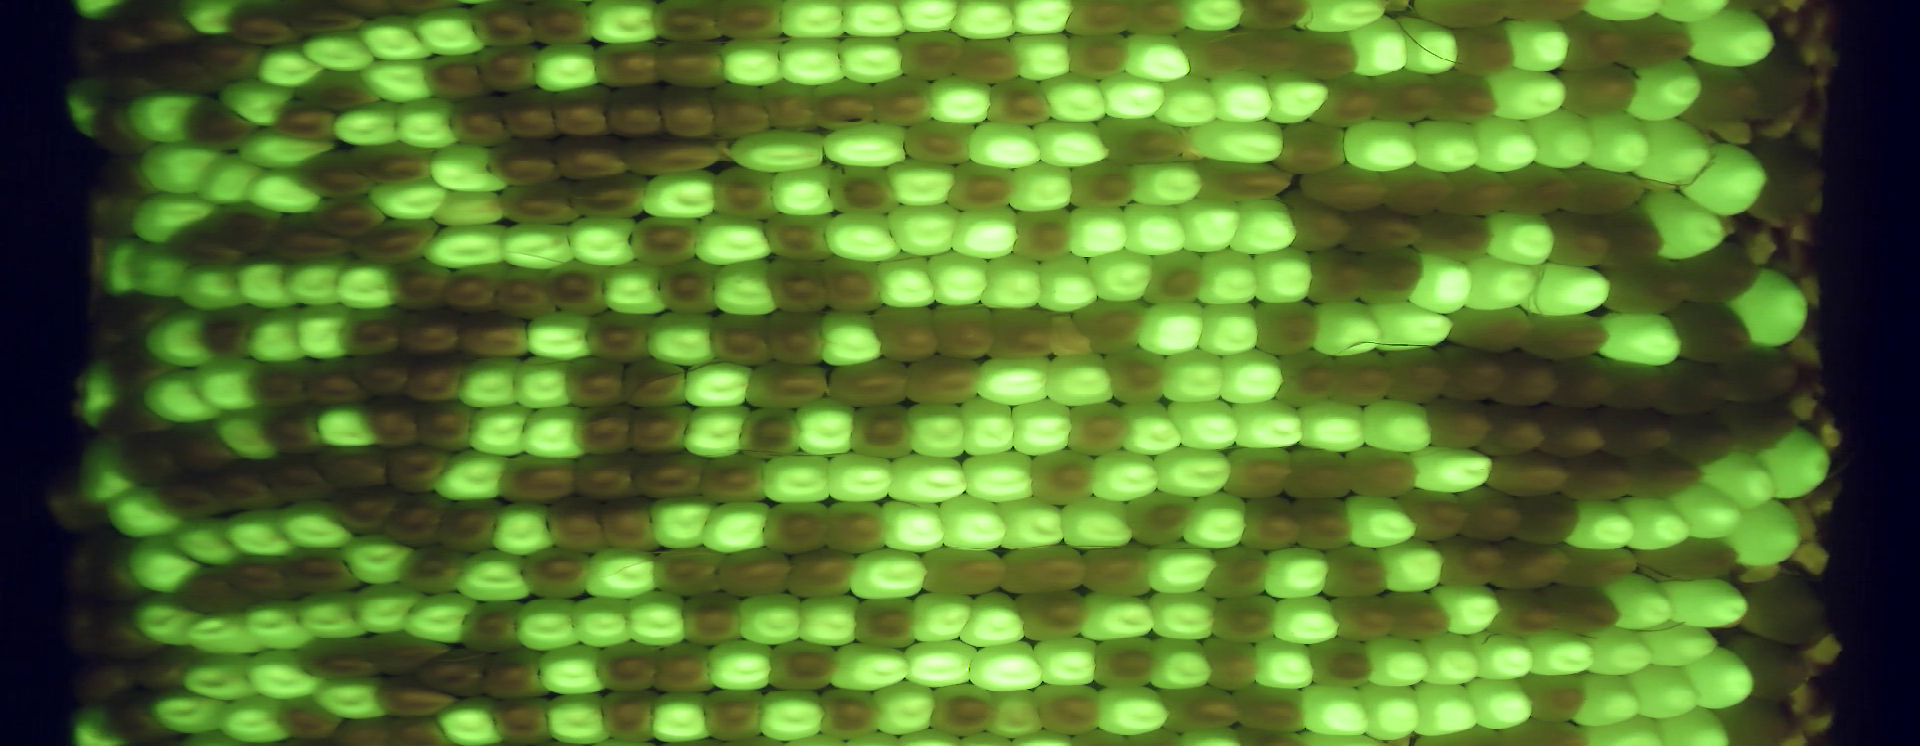fluorescent: (1729, 258, 1813, 355), (1682, 138, 1776, 218), (1680, 1, 1780, 73), (1637, 185, 1727, 265), (1716, 491, 1806, 570), (1752, 424, 1838, 505), (1631, 111, 1717, 190), (1674, 642, 1763, 715), (1518, 258, 1619, 323), (1591, 304, 1684, 372), (1335, 486, 1425, 556), (842, 544, 940, 608), (122, 81, 213, 149), (1187, 113, 1294, 170), (1622, 51, 1703, 127), (240, 642, 334, 707), (1400, 247, 1485, 318), (125, 187, 220, 251), (1360, 298, 1460, 359), (823, 637, 920, 699), (1578, 105, 1659, 180), (722, 124, 834, 178), (1656, 571, 1753, 632), (1596, 570, 1682, 638), (820, 113, 920, 173), (137, 301, 217, 376), (1480, 62, 1573, 126), (122, 589, 212, 655), (931, 491, 1018, 559), (100, 481, 189, 548), (135, 366, 228, 429), (415, 218, 520, 273), (422, 138, 517, 200), (966, 352, 1064, 410), (234, 594, 326, 657), (1056, 491, 1144, 556), (1340, 111, 1428, 176), (1458, 254, 1547, 318), (1400, 441, 1499, 499), (1357, 392, 1441, 459), (879, 450, 976, 508), (1145, 442, 1242, 501), (233, 122, 340, 175), (396, 586, 484, 649), (289, 579, 373, 646), (1477, 206, 1562, 271), (1305, 296, 1391, 361), (643, 489, 722, 559), (1407, 111, 1487, 181), (576, 543, 666, 604), (1074, 586, 1161, 649), (953, 586, 1035, 653), (1495, 11, 1577, 78), (133, 138, 225, 198), (1665, 479, 1749, 545), (1698, 447, 1783, 512), (959, 637, 1052, 696), (1296, 680, 1382, 742), (144, 681, 239, 739), (1109, 394, 1191, 461), (456, 544, 538, 610), (747, 684, 835, 745), (1223, 190, 1302, 258), (305, 669, 394, 729), (564, 589, 645, 655), (823, 206, 913, 265), (181, 606, 272, 665), (1622, 663, 1709, 724), (686, 209, 780, 266), (819, 446, 902, 510), (962, 114, 1051, 174), (67, 432, 136, 510), (271, 494, 359, 554), (640, 309, 725, 371), (693, 496, 778, 559), (961, 445, 1046, 507), (874, 492, 954, 559), (496, 216, 582, 277), (675, 399, 756, 464), (514, 403, 595, 468), (1293, 394, 1374, 459), (989, 492, 1071, 556), (429, 445, 516, 505), (1161, 394, 1248, 454), (125, 532, 202, 599), (1142, 630, 1220, 697), (1524, 107, 1602, 174), (1618, 489, 1696, 555), (1352, 679, 1430, 745), (1131, 296, 1212, 360), (757, 446, 838, 510), (1570, 669, 1651, 733), (1393, 9, 1466, 80), (170, 256, 252, 318), (1030, 249, 1104, 317), (1469, 110, 1544, 179), (511, 590, 587, 658), (238, 164, 328, 220), (945, 201, 1022, 267), (449, 349, 527, 415), (563, 209, 642, 274), (975, 251, 1053, 316), (699, 632, 778, 697), (336, 530, 420, 590), (1145, 586, 1229, 646), (884, 198, 964, 262), (278, 249, 359, 311), (1040, 349, 1120, 412), (816, 304, 889, 372), (214, 75, 304, 131), (1141, 537, 1223, 598), (620, 586, 696, 652), (1171, 194, 1248, 258), (640, 165, 724, 225), (1117, 197, 1195, 261), (1081, 245, 1160, 309), (351, 9, 436, 67), (902, 394, 973, 464), (791, 390, 861, 461), (227, 250, 299, 318), (190, 352, 264, 418), (1035, 70, 1120, 127), (1026, 115, 1116, 170), (733, 587, 811, 650), (1358, 632, 1438, 693), (1007, 393, 1079, 461), (1179, 484, 1251, 551), (1093, 681, 1178, 739), (238, 304, 311, 370), (191, 149, 272, 209), (534, 639, 615, 699), (1153, 70, 1229, 134), (208, 403, 284, 467), (1245, 632, 1322, 695), (1462, 675, 1540, 736), (1407, 680, 1485, 741), (642, 688, 725, 746), (388, 91, 460, 157), (122, 238, 195, 304), (347, 578, 426, 638), (1191, 244, 1265, 309), (1060, 198, 1135, 262), (768, 160, 842, 224), (1085, 447, 1166, 506), (598, 257, 673, 320), (1224, 398, 1310, 453), (329, 98, 411, 156), (169, 510, 247, 570), (1215, 347, 1293, 407), (1428, 579, 1506, 639), (506, 349, 576, 416), (1250, 243, 1321, 309), (407, 2, 490, 59), (871, 247, 943, 312), (176, 652, 263, 706), (1576, 624, 1656, 682), (331, 254, 405, 316), (869, 676, 944, 739), (1260, 541, 1335, 604), (900, 637, 984, 692), (429, 688, 509, 746), (211, 688, 291, 746), (1374, 538, 1450, 599), (362, 173, 451, 225), (1120, 29, 1198, 89), (222, 502, 299, 562), (294, 24, 380, 78), (1635, 619, 1720, 673), (924, 246, 996, 311), (1033, 628, 1104, 693), (1004, 160, 1082, 219), (1156, 347, 1234, 405), (467, 401, 539, 464), (709, 257, 782, 320), (909, 586, 982, 648), (1207, 65, 1281, 127), (1414, 628, 1488, 691), (55, 71, 115, 147), (1565, 492, 1641, 552), (879, 156, 964, 209), (1193, 296, 1265, 359), (1261, 66, 1335, 127), (678, 356, 762, 410), (520, 305, 595, 365), (793, 590, 868, 650), (1344, 13, 1413, 78), (775, 32, 852, 89), (1127, 156, 1209, 209), (293, 296, 358, 364), (1461, 626, 1542, 680), (528, 38, 605, 94), (1007, 27, 1079, 87), (834, 32, 912, 87), (1266, 590, 1344, 646), (1522, 624, 1600, 679), (923, 71, 998, 129), (955, 393, 1019, 461), (355, 56, 438, 108), (715, 32, 787, 91), (69, 355, 122, 434), (310, 399, 384, 456), (542, 688, 615, 746), (492, 497, 560, 559), (252, 39, 327, 94), (1291, 1, 1397, 39), (1095, 69, 1169, 122), (580, 1, 665, 48), (427, 184, 509, 232), (1651, 699, 1734, 746), (983, 686, 1049, 742), (770, 1, 853, 44), (1573, 710, 1671, 746), (1171, 1, 1259, 40), (833, 1, 911, 44), (96, 232, 144, 299), (944, 1, 1022, 43), (66, 697, 129, 746), (893, 1, 964, 39), (1007, 1, 1080, 37), (179, 1, 246, 39)
nonfluorescent: (1742, 134, 1829, 225), (1738, 29, 1817, 129), (1740, 572, 1836, 652), (1720, 628, 1812, 706), (1663, 298, 1763, 367), (1675, 55, 1764, 134), (1596, 252, 1696, 320), (1625, 534, 1747, 589), (1671, 236, 1764, 307), (1189, 152, 1300, 207), (1093, 111, 1193, 173), (98, 684, 195, 746), (915, 541, 1011, 604), (1609, 11, 1702, 76), (740, 355, 838, 416), (924, 295, 1005, 369), (899, 350, 989, 415), (996, 541, 1093, 601), (1078, 538, 1164, 605), (1591, 203, 1671, 276), (284, 149, 389, 205), (1311, 539, 1397, 606), (842, 394, 920, 469), (1651, 358, 1739, 423), (647, 540, 733, 605), (1555, 60, 1643, 124), (981, 301, 1064, 369), (1554, 9, 1637, 76), (1517, 309, 1619, 364), (1341, 441, 1425, 507), (757, 303, 838, 371), (864, 299, 948, 365), (1498, 158, 1586, 220), (819, 353, 915, 410), (1441, 301, 1537, 359), (107, 284, 191, 349), (1215, 441, 1299, 506), (179, 96, 264, 159), (612, 130, 724, 179), (1487, 345, 1566, 414), (628, 443, 719, 503), (1558, 163, 1652, 220), (1722, 341, 1805, 405), (820, 159, 909, 220), (492, 451, 584, 510), (1011, 586, 1100, 647), (359, 626, 457, 681), (820, 494, 898, 563), (1070, 295, 1155, 359), (1538, 207, 1616, 276), (1280, 189, 1358, 257), (1406, 206, 1499, 263), (345, 213, 442, 268), (1367, 62, 1449, 127), (1618, 445, 1712, 501), (381, 255, 464, 318), (84, 532, 152, 610), (1451, 481, 1529, 549), (760, 633, 845, 696), (1025, 446, 1104, 512), (1657, 412, 1742, 473), (1155, 680, 1248, 736), (1297, 160, 1398, 212), (1487, 535, 1573, 595), (1538, 577, 1625, 637), (264, 209, 355, 267), (1485, 445, 1576, 502), (542, 255, 617, 325), (1433, 339, 1511, 405), (1533, 401, 1611, 467), (1269, 118, 1353, 179), (1231, 677, 1315, 739), (1396, 483, 1476, 548), (366, 670, 467, 722), (711, 541, 797, 601), (594, 490, 666, 561), (624, 207, 707, 269), (756, 496, 838, 559), (184, 29, 271, 88), (549, 130, 636, 189), (456, 305, 542, 364), (1374, 160, 1461, 219), (482, 136, 573, 192), (760, 254, 838, 320), (156, 222, 252, 274), (1544, 350, 1622, 415), (61, 649, 146, 709), (692, 450, 776, 510), (850, 590, 929, 654), (564, 170, 656, 225), (258, 447, 339, 510), (1305, 69, 1386, 131), (1418, 392, 1499, 454), (1278, 442, 1359, 505), (817, 250, 890, 318), (171, 560, 257, 619), (1171, 24, 1253, 86), (1424, 69, 1507, 129), (1232, 22, 1315, 82), (1100, 342, 1171, 412), (1356, 240, 1428, 309), (195, 299, 268, 366), (91, 597, 164, 664), (1284, 491, 1359, 557), (1438, 163, 1523, 220), (380, 488, 456, 552), (1555, 539, 1648, 592), (33, 479, 111, 541), (282, 540, 365, 599), (260, 401, 339, 462), (1245, 295, 1325, 356), (200, 202, 288, 257), (409, 394, 482, 461), (804, 73, 885, 134), (615, 356, 696, 416), (162, 415, 242, 475), (204, 454, 285, 514), (1711, 398, 1805, 450), (1480, 581, 1561, 641), (456, 594, 530, 659), (495, 176, 587, 229), (492, 83, 568, 147), (1200, 541, 1276, 605), (122, 636, 204, 695), (707, 163, 784, 225), (53, 13, 125, 80), (1010, 203, 1082, 269), (926, 679, 1005, 739), (651, 82, 725, 147), (437, 256, 511, 321), (1378, 341, 1451, 405), (1233, 490, 1307, 555), (310, 439, 394, 495), (1477, 401, 1551, 464), (102, 341, 182, 399), (1505, 491, 1586, 550), (433, 492, 509, 555), (348, 138, 442, 189), (944, 159, 1021, 220), (1589, 405, 1675, 461), (227, 550, 309, 608), (595, 82, 673, 142), (580, 309, 659, 369), (1446, 20, 1524, 80), (1558, 448, 1636, 508), (542, 492, 615, 557), (307, 189, 394, 243), (653, 256, 727, 318), (558, 352, 633, 414), (1299, 244, 1374, 306), (1599, 354, 1674, 416), (151, 470, 235, 526), (336, 299, 411, 360), (476, 643, 552, 704), (1716, 693, 1804, 746), (244, 355, 321, 415), (111, 428, 189, 488), (587, 38, 669, 94), (140, 45, 225, 99), (704, 78, 775, 143), (705, 307, 776, 372), (893, 27, 971, 86), (758, 208, 836, 267), (650, 34, 733, 89), (675, 586, 748, 648), (1271, 349, 1344, 412), (295, 633, 382, 686), (1338, 206, 1425, 258), (622, 399, 697, 461), (1062, 157, 1139, 216), (1062, 398, 1130, 464), (444, 92, 516, 156), (51, 528, 109, 606), (518, 545, 596, 603), (1026, 680, 1104, 737), (1287, 26, 1365, 83), (1379, 588, 1457, 646), (386, 437, 459, 499), (419, 49, 498, 105), (75, 187, 154, 244), (396, 349, 470, 409), (299, 354, 373, 414), (569, 447, 645, 506), (1089, 635, 1164, 693), (901, 114, 982, 169), (413, 646, 493, 701), (984, 73, 1062, 131), (350, 394, 427, 452), (333, 481, 410, 539), (782, 544, 860, 601), (1433, 533, 1510, 590), (396, 537, 467, 599), (867, 71, 939, 132), (1140, 247, 1212, 309), (756, 78, 829, 138), (91, 393, 178, 443), (549, 81, 620, 142), (1326, 589, 1403, 646), (1207, 592, 1284, 648), (1305, 635, 1378, 695), (294, 67, 384, 115), (591, 637, 665, 696), (340, 345, 415, 403), (471, 39, 542, 99), (396, 303, 467, 363), (735, 404, 807, 463), (1125, 490, 1198, 549), (947, 34, 1025, 88), (485, 692, 563, 746), (1198, 633, 1266, 695), (493, 265, 564, 323), (1517, 669, 1589, 726), (1062, 29, 1135, 86), (1330, 349, 1396, 412), (651, 638, 719, 699), (697, 686, 765, 746), (595, 686, 665, 745), (84, 103, 156, 160), (814, 685, 885, 742), (223, 1, 306, 50), (124, 1, 204, 51), (571, 401, 639, 459), (84, 149, 160, 202), (464, 1, 542, 51), (269, 96, 345, 147), (647, 1, 731, 47), (274, 692, 345, 746), (520, 1, 598, 49), (277, 1, 370, 40), (89, 7, 156, 62), (60, 600, 113, 669), (1409, 1, 1513, 36), (80, 301, 137, 363), (710, 1, 789, 44), (1228, 1, 1315, 39), (320, 710, 407, 746), (1043, 309, 1100, 363), (1058, 1, 1138, 39), (373, 712, 460, 746), (1119, 1, 1189, 39)
